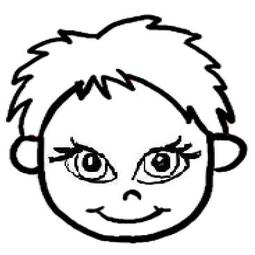ear: (205, 133, 252, 177), (10, 136, 47, 173)
eye: (130, 138, 203, 186), (49, 136, 119, 182)
mouth: (83, 203, 176, 222)
nose: (116, 187, 148, 201)
